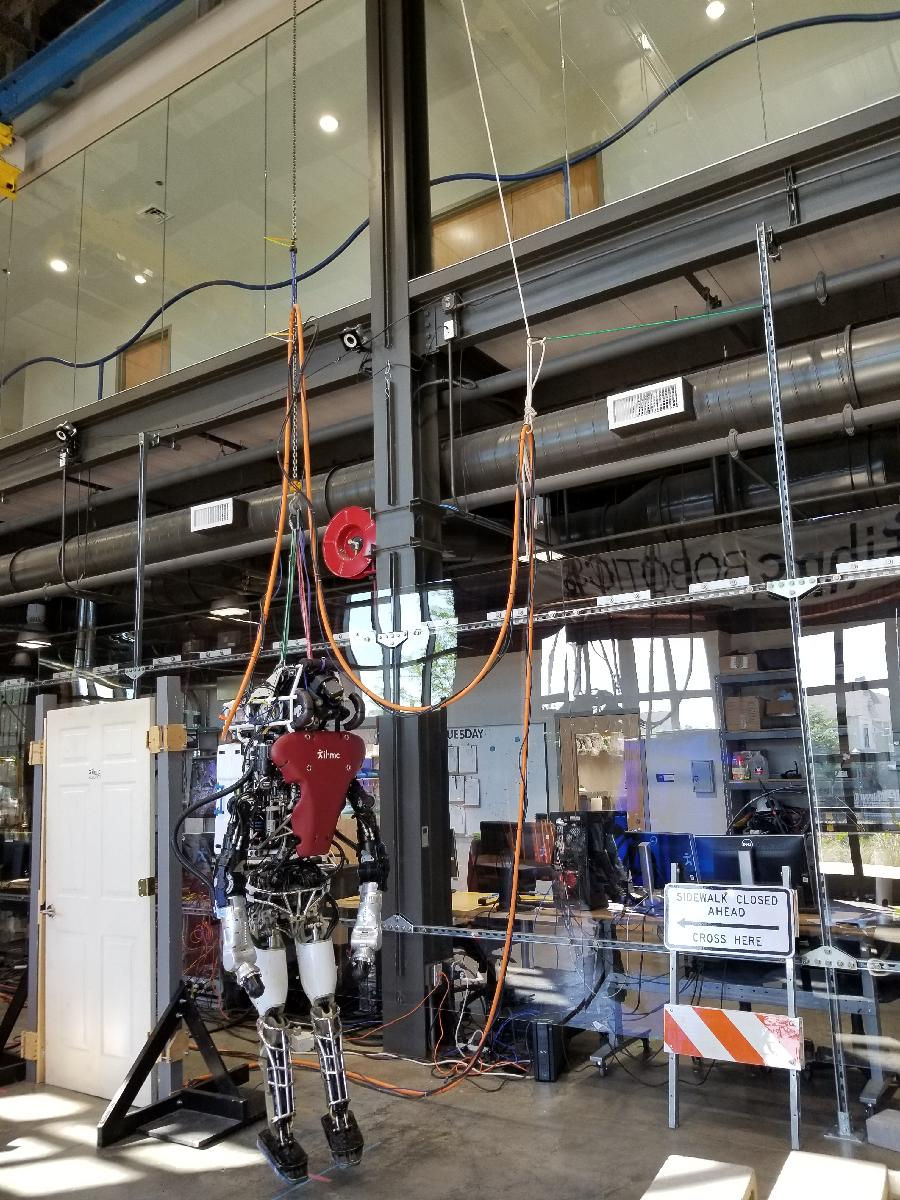door: (37, 696, 164, 1117)
doorHandle: (41, 906, 59, 923)
